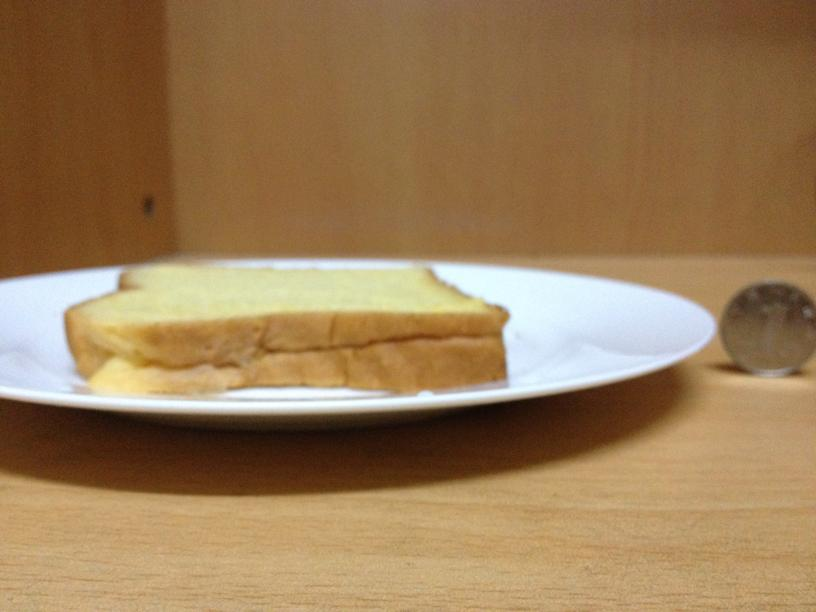bread: (64, 255, 508, 394)
coin: (720, 280, 814, 378)
